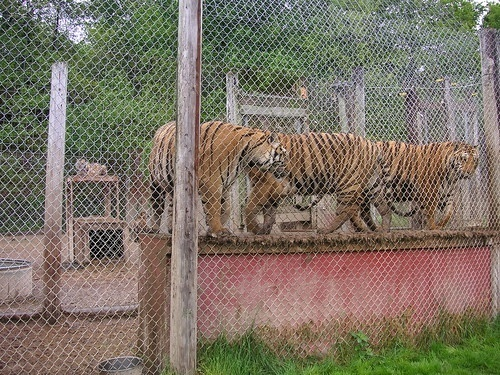tigre: (145, 120, 287, 237), (269, 128, 389, 231), (383, 133, 480, 232)
